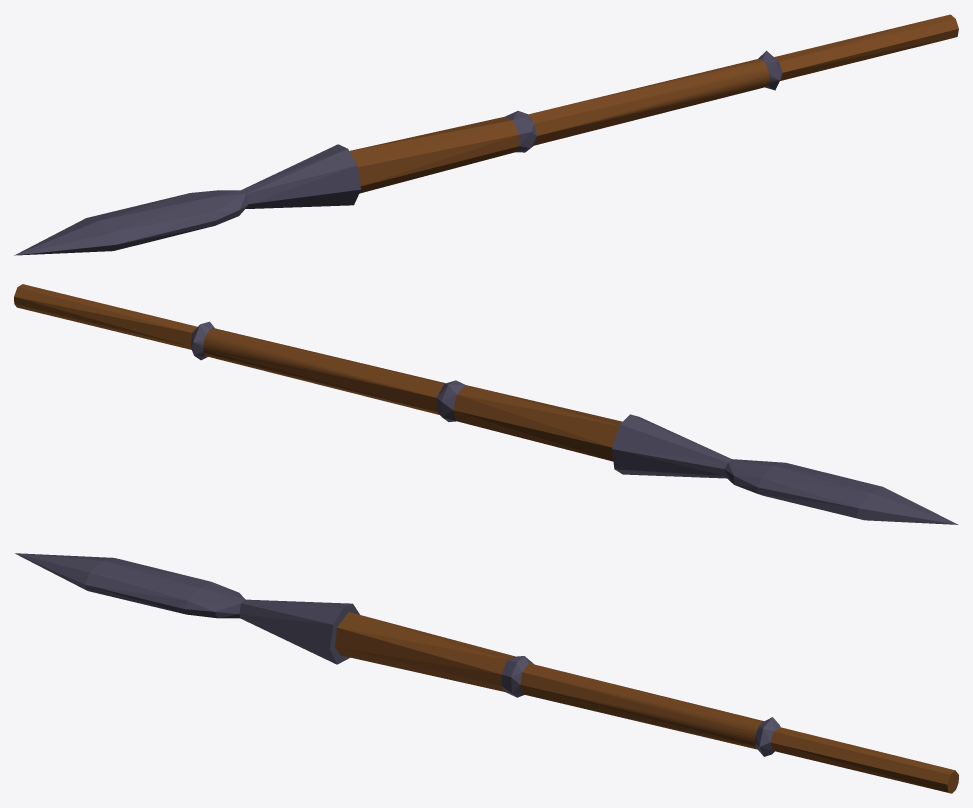
Rendered from Model_Dzidka.fbx.
3 views of the same model, one above another, from view 1: azimuth 30°, elevation 25°; view 2: azimuth 150°, elevation 25°; view 3: azimuth 330°, elevation 25° (orthographic).
Visible parts, largest first — view 1: Dzida; view 2: Dzida; view 3: Dzida.
Boxes of the visible parts, <box> form: Dzida: <box>14,14,958,255</box>; Dzida: <box>14,284,958,524</box>; Dzida: <box>15,553,958,793</box>.
Bounding box in the file's own units: 8.93 × 8.62 × 154.
